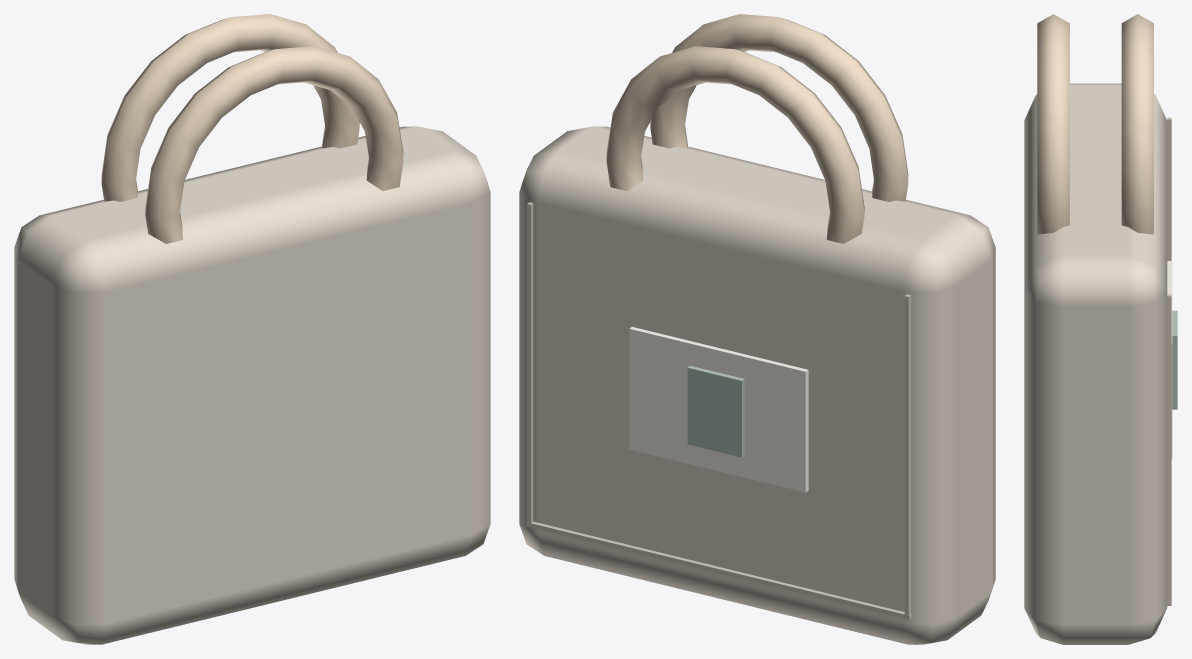
The model's file is tote.glb.
3 renders of one model, left to right at view 1: azimuth 30°, elevation 25°; view 2: azimuth 150°, elevation 25°; view 3: azimuth 270°, elevation 25°, orthographic. The views are drawn at different scales.
Parts seen in each view (by area): view 1: tote.material0, tote.material1; view 2: tote.material0, tote.material1, tote.material2, tote.material4, tote.material3; view 3: tote.material0, tote.material1, tote.material4, tote.material3, tote.material2.
Boxes of the visible parts, x1,y1,x2,y2 form: tote.material0: [14, 126, 490, 644]; tote.material1: [101, 14, 403, 243]; tote.material0: [519, 126, 995, 644]; tote.material1: [606, 14, 908, 243]; tote.material2: [629, 327, 808, 492]; tote.material4: [526, 202, 911, 619]; tote.material3: [687, 365, 744, 457]; tote.material0: [1024, 83, 1167, 644]; tote.material1: [1037, 14, 1153, 234]; tote.material4: [1167, 117, 1171, 605]; tote.material3: [1172, 310, 1177, 409]; tote.material2: [1167, 261, 1172, 458].
Bounding box in the file's own units: 0.32 × 0.3905 × 0.102.
